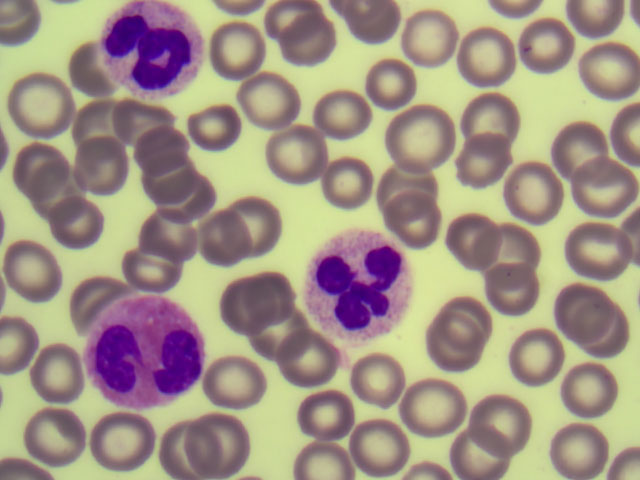RBC: (10, 72, 78, 139), (55, 38, 123, 105), (59, 84, 127, 151), (104, 75, 172, 142), (77, 130, 145, 197), (209, 22, 264, 82), (10, 137, 66, 194), (29, 163, 85, 220), (48, 194, 104, 251), (10, 242, 66, 299), (60, 266, 116, 323), (26, 347, 82, 404), (29, 409, 85, 466), (97, 411, 153, 468), (156, 411, 212, 468), (188, 410, 244, 467), (204, 350, 260, 407), (209, 280, 265, 337), (245, 269, 301, 326), (236, 192, 292, 249), (201, 212, 257, 269), (142, 209, 198, 266), (119, 238, 175, 295), (162, 174, 218, 231), (137, 149, 193, 206), (136, 125, 192, 182), (196, 99, 252, 156), (240, 64, 296, 121), (286, 24, 342, 81), (347, 3, 403, 60), (399, 10, 455, 67), (460, 30, 516, 87), (516, 15, 572, 72), (584, 37, 640, 94), (557, 121, 613, 178), (583, 163, 639, 220), (501, 166, 557, 223), (457, 136, 513, 193), (465, 91, 521, 148), (393, 109, 449, 166), (364, 56, 420, 113), (315, 88, 371, 145), (270, 124, 326, 181), (316, 154, 372, 211), (380, 155, 436, 212), (385, 185, 441, 242), (436, 207, 492, 264), (482, 222, 538, 279), (487, 253, 543, 310), (551, 284, 607, 341), (570, 225, 626, 282), (579, 307, 635, 364), (563, 358, 619, 415), (559, 416, 615, 473), (469, 389, 525, 446), (449, 423, 505, 480), (507, 331, 563, 388), (424, 319, 480, 376), (439, 295, 495, 352), (408, 384, 464, 441), (356, 416, 412, 473), (289, 423, 345, 480), (301, 389, 357, 446), (348, 353, 404, 410), (285, 334, 341, 391), (255, 310, 311, 367), (262, 1, 318, 57), (568, 1, 625, 42)
WBC: (103, 1, 203, 102), (91, 294, 191, 395), (305, 233, 405, 334)
